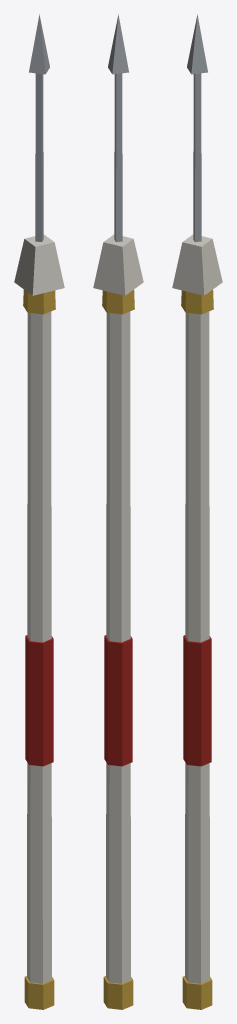
Rendered from weapon_naginata.glb.
3 renders of one model, left to right at view 1: azimuth 30°, elevation 25°; view 2: azimuth 150°, elevation 25°; view 3: azimuth 330°, elevation 25°, orthographic.
Parts seen in each view (by area): view 1: angel_weapon_naginata; view 2: angel_weapon_naginata; view 3: angel_weapon_naginata.
Part boxes in pixels (x1,y1,x2,y2): angel_weapon_naginata: (14,14,64,1009); angel_weapon_naginata: (93,14,143,1009); angel_weapon_naginata: (172,14,222,1009).
Bounding box in the file's own units: 0.072 × 2.12 × 0.072.
